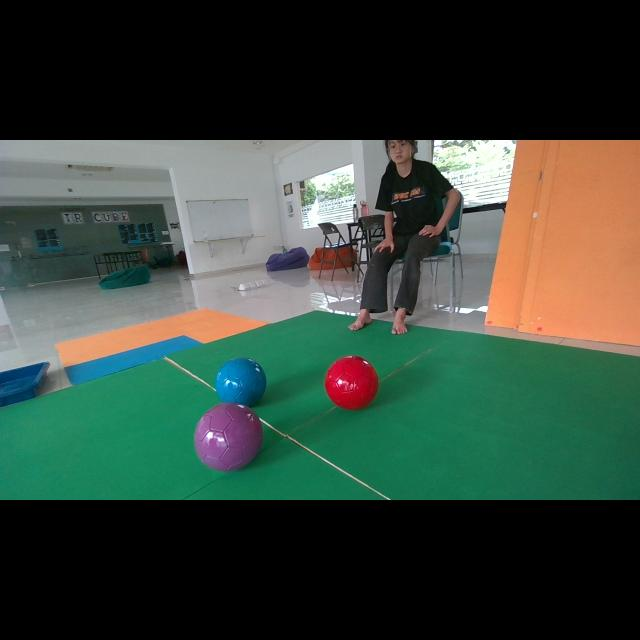B: (215, 358, 266, 406)
P: (194, 402, 262, 471)
R: (324, 355, 379, 410)
